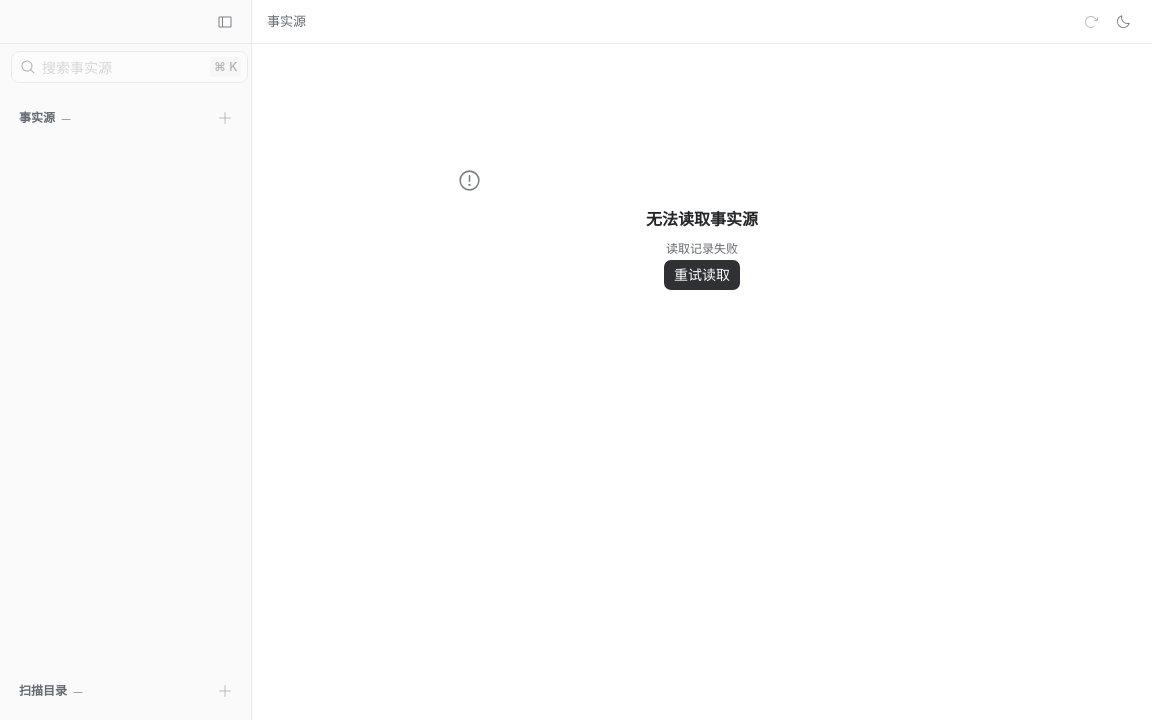
Test: shows a retryable load error instead of an empty library
Expected: the heading "无法读取事实源" is shown, [646,208,758,230]
Expected: the button named "添加事实源" is disabled, [213,106,237,130]
Click the button "重试读取" at (702, 275), box [663,259,741,291]
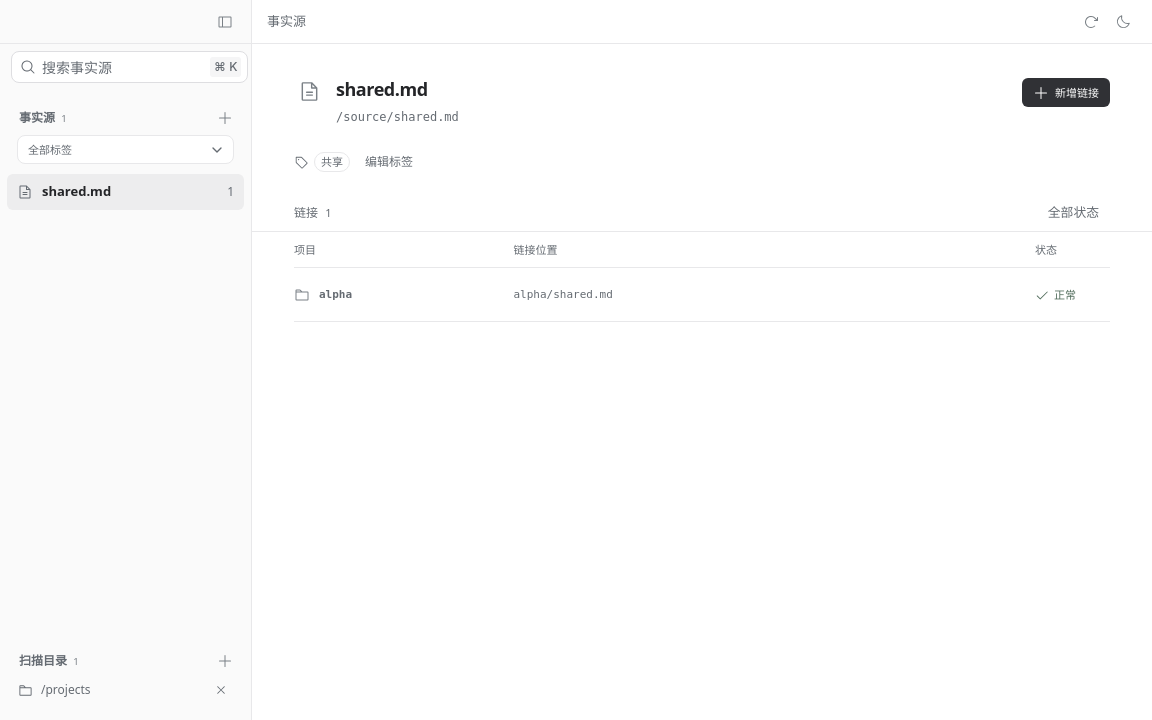
Now the heading "shared.md" is shown, box [336,77,428,101]
